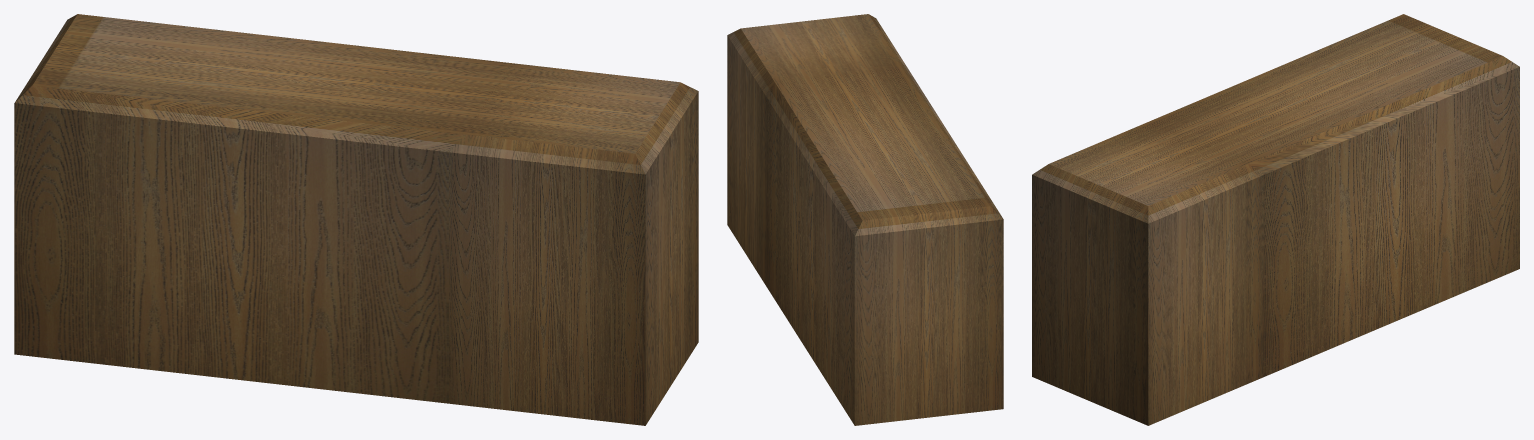
File: Obstacle_030.obj
3 renders of one model, left to right at view 1: azimuth 30°, elevation 25°; view 2: azimuth 150°, elevation 25°; view 3: azimuth 270°, elevation 25°, orthographic. The views are drawn at different scales.
Parts seen in each view (by area): view 1: Box097; view 2: Box097; view 3: Box097.
Boxes of the visible parts, x1,y1,x2,y2 form: Box097: [14, 14, 698, 425]; Box097: [727, 14, 1003, 425]; Box097: [1032, 14, 1519, 425].
Size of the model in its own units: 81.78 by 39.37 by 81.78.
